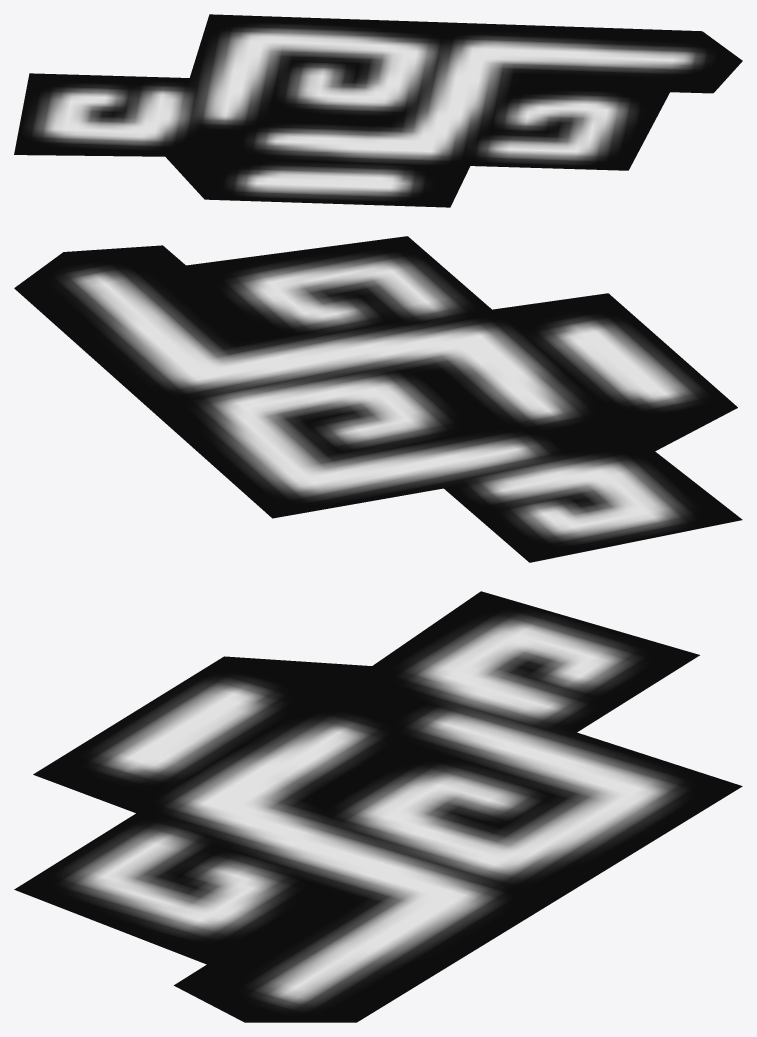
3 renders of one model, top to bottom at view 1: azimuth 30°, elevation 25°; view 2: azimuth 150°, elevation 25°; view 3: azimuth 270°, elevation 25°, orthographic. The views are drawn at different scales.
Visible parts, largest first — view 1: Br_s; view 2: Br_s; view 3: Br_s.
Boxes of the visible parts, box(x1,y1,x2,y2) form: Br_s: box(14, 14, 742, 207); Br_s: box(14, 236, 742, 562); Br_s: box(14, 591, 742, 1022).
Size of the model in its own units: 407 by 0 by 291.
Materials: 1 (1 with a texture image).
